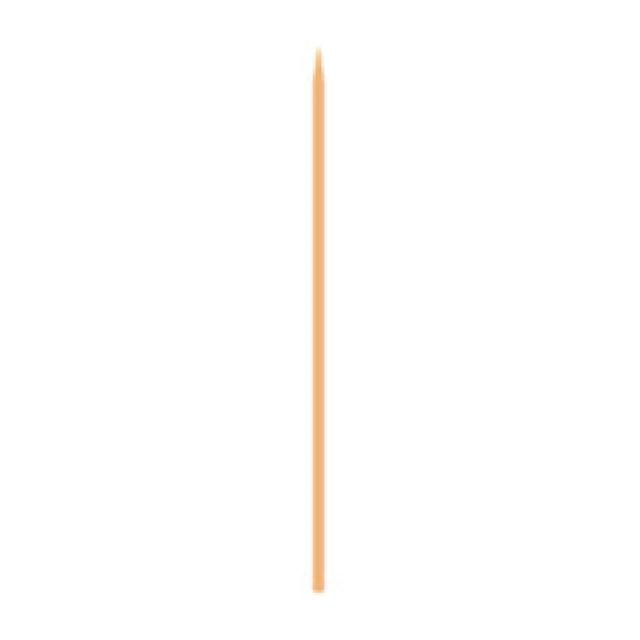stick: (312, 50, 323, 592)
